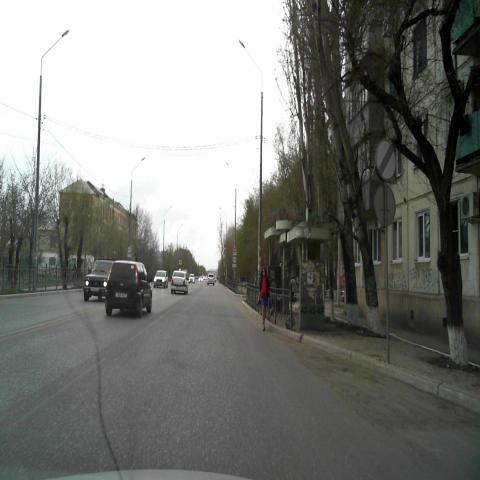3_31: (375, 137, 397, 181)
